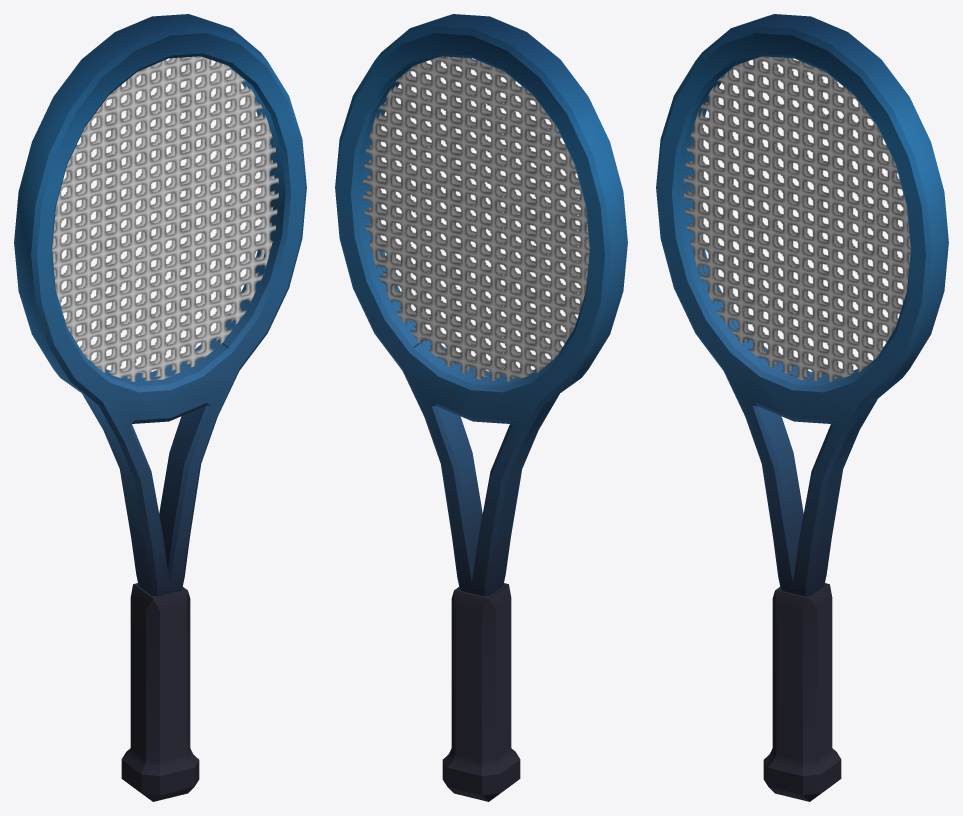
Rendered from bat.glb.
3 renders of one model, left to right at view 1: azimuth 30°, elevation 25°; view 2: azimuth 150°, elevation 25°; view 3: azimuth 330°, elevation 25°, orthographic.
Visible parts, largest first — view 1: TennisRacket; view 2: TennisRacket; view 3: TennisRacket.
Part boxes in pixels (x1,y1,x2,y2): TennisRacket: [14, 14, 306, 801]; TennisRacket: [335, 14, 627, 801]; TennisRacket: [656, 14, 948, 801].
Bounding box in the file's own units: 0.424 × 1.11 × 0.0876.
1 material, 1 textured.
